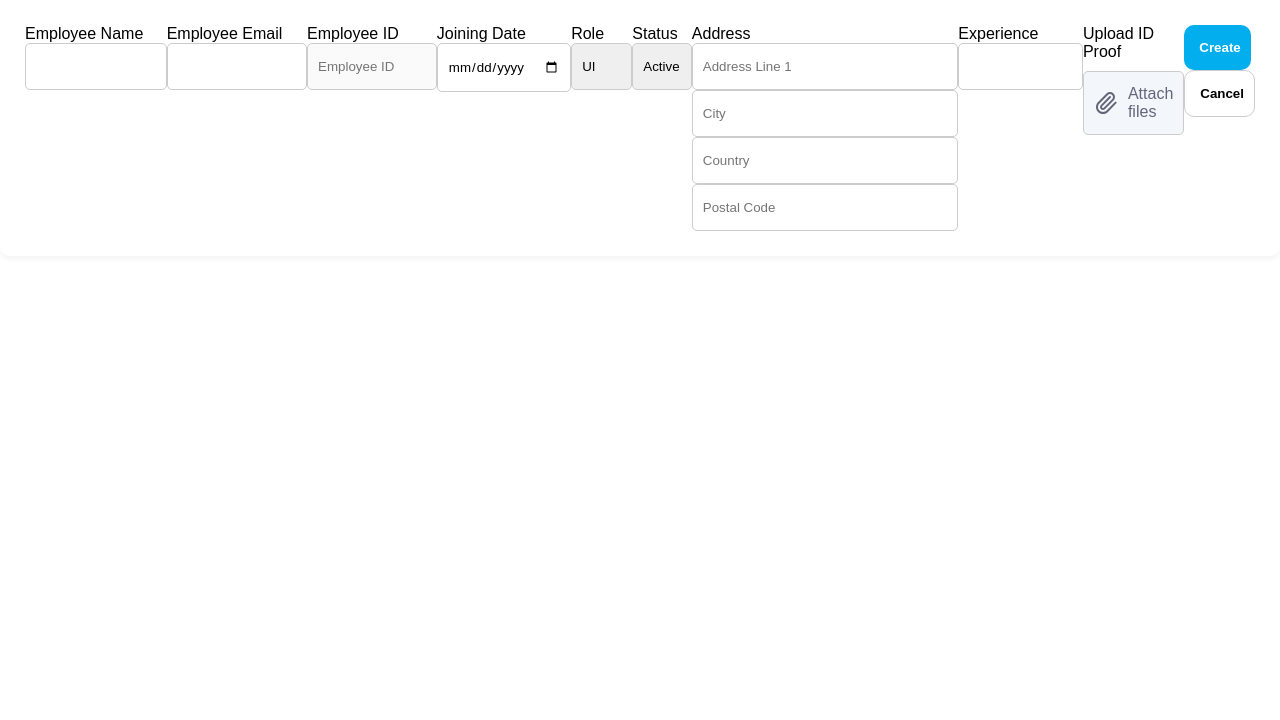
Scenario: Form Component › should open upload dialog on clicking upload proof input and close on close button click
What coordinates should you click on to do the following:
click the element with test id "file-upload" showing "Attach files"
I would click on:
 (1134, 103)
Its box is [1083,71,1184,135].
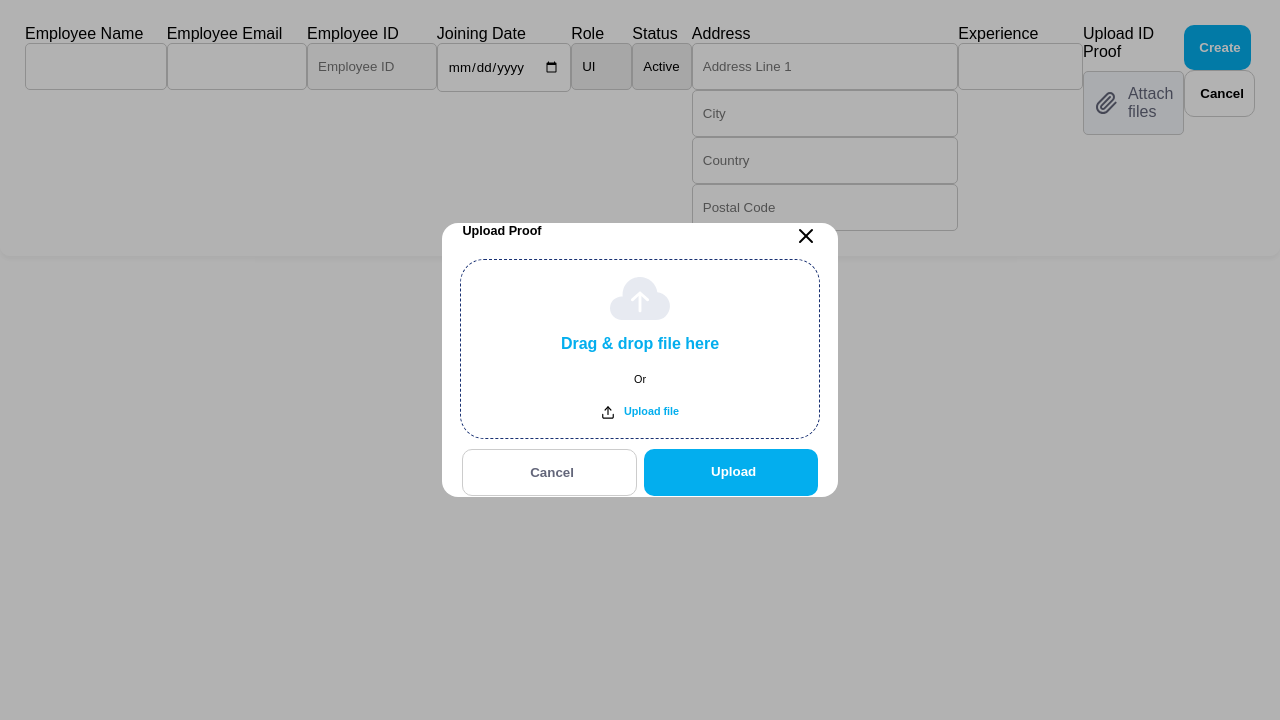
expect the heading "Upload Proof" is shown: met, box [462,224,542,238]
What coordinates should you click on to do the following:
click the picture with alt text "close"
I would click on:
 (806, 236)
Its box is [794,224,818,248].
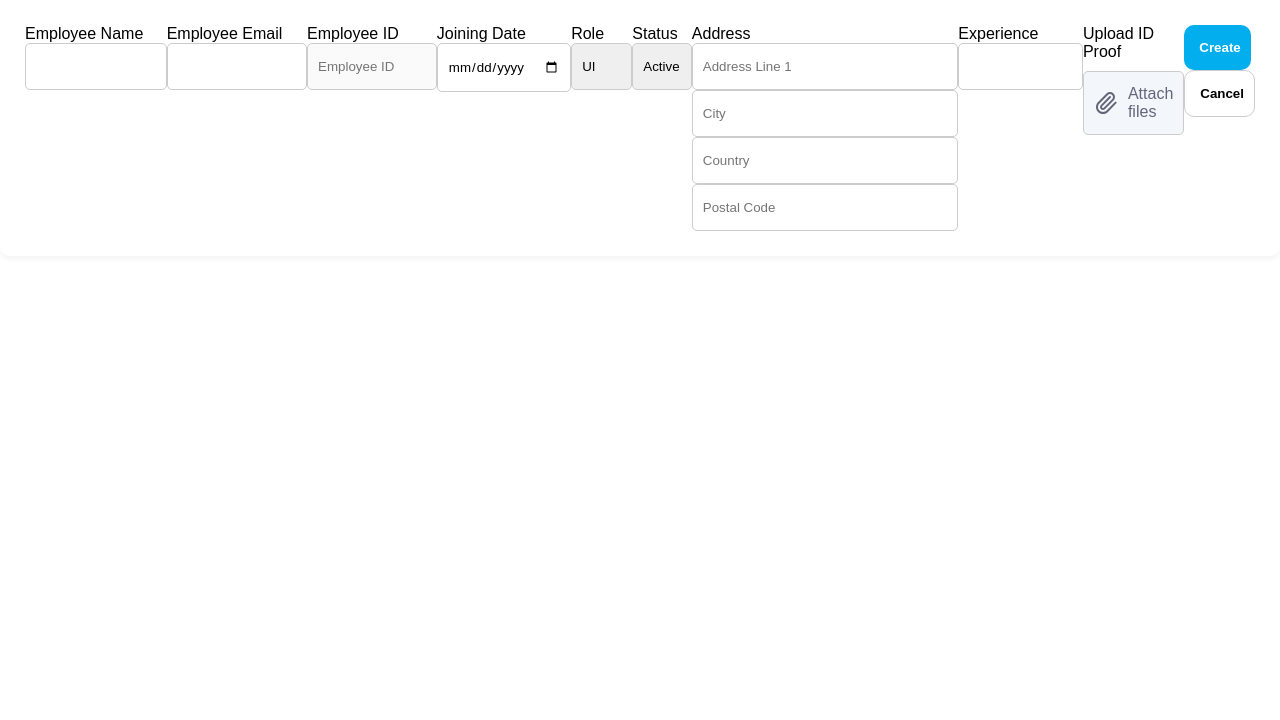
expect the heading "Upload Proof" is gone: met
